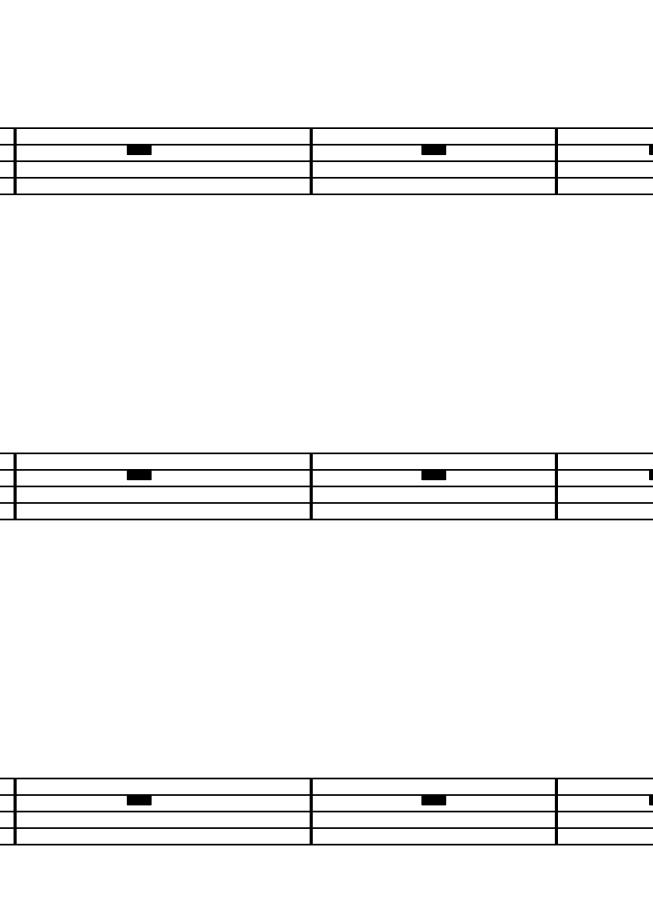Rests1: (416, 137, 451, 160), (415, 464, 452, 485), (121, 792, 159, 812), (117, 141, 156, 159), (120, 466, 157, 484), (417, 791, 449, 809)
Single_barline: (302, 127, 319, 194), (548, 453, 565, 518), (302, 452, 318, 519), (302, 777, 318, 843), (6, 452, 21, 519), (549, 128, 564, 193), (549, 779, 564, 842), (7, 777, 20, 843), (7, 128, 20, 194)
